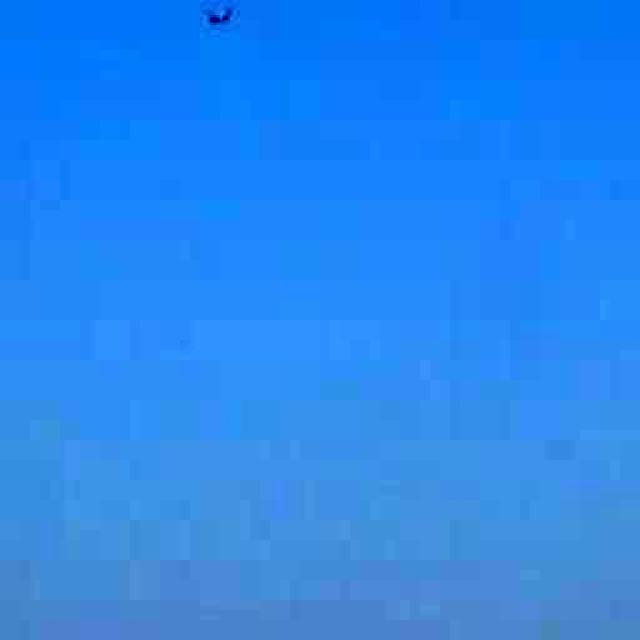bird: (184, 0, 254, 40)
